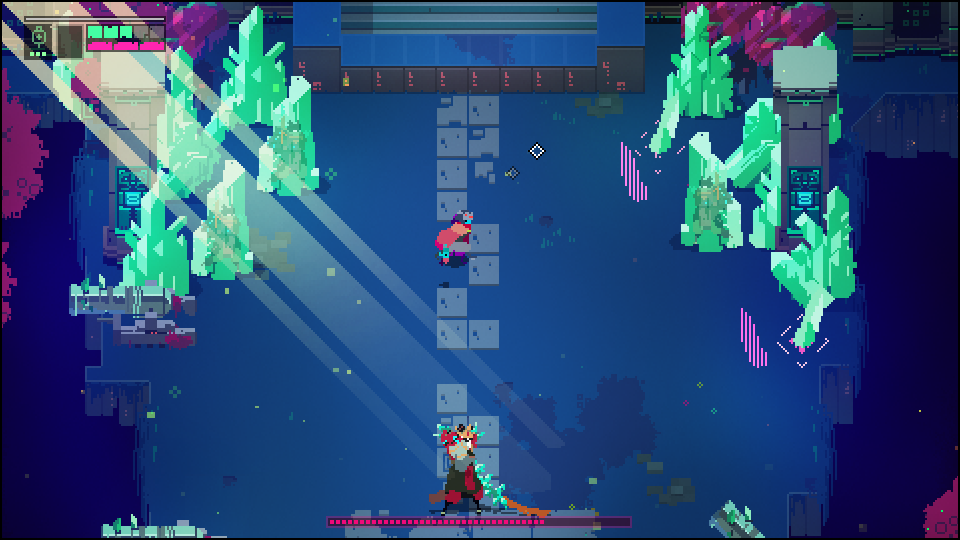hanged_crys: (736, 304, 767, 375), (616, 143, 650, 204)
hanged_man: (427, 417, 512, 514)
player: (434, 210, 477, 266)
